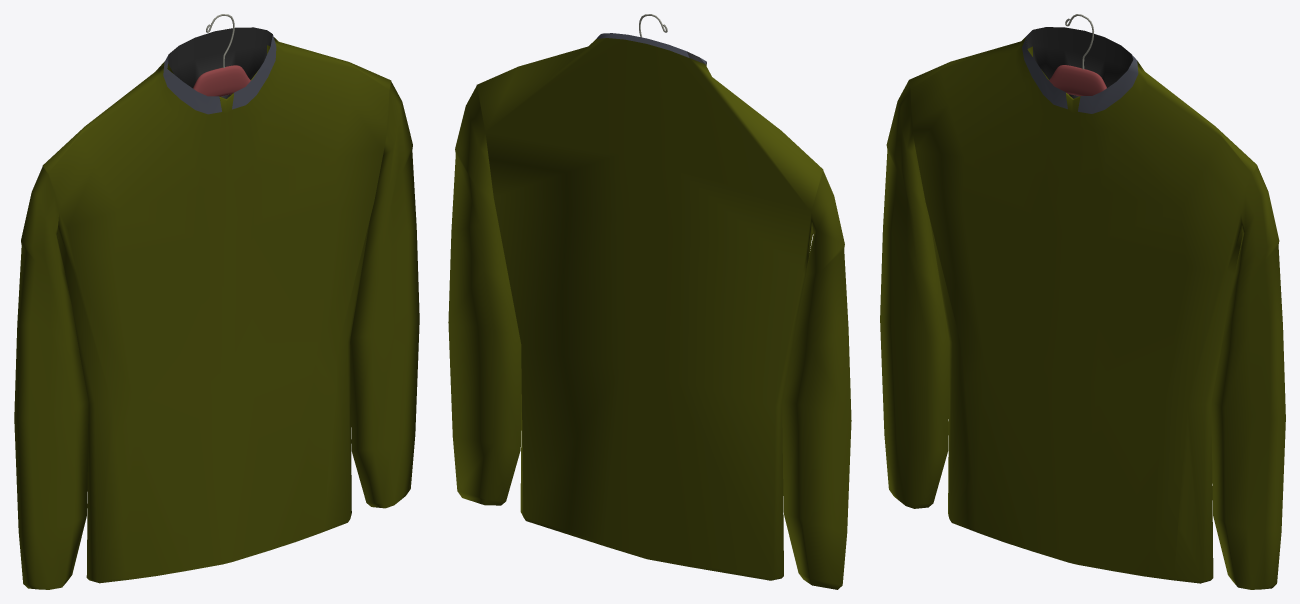
The model's file is Sueter_Amarillo.fbx.
3 renders of one model, left to right at view 1: azimuth 30°, elevation 25°; view 2: azimuth 150°, elevation 25°; view 3: azimuth 330°, elevation 25°, orthographic.
Visible parts, largest first — view 1: Sueter, Gancho; view 2: Sueter; view 3: Sueter, Gancho.
Part boxes in pixels (box(x1,y1,x2,y2)): Sueter: box(14, 27, 419, 589); Gancho: box(193, 14, 250, 96); Sueter: box(448, 33, 851, 589); Sueter: box(880, 27, 1285, 589); Gancho: box(1049, 14, 1106, 96).
Size of the model in its own units: 1124 by 1441 by 65.19.
